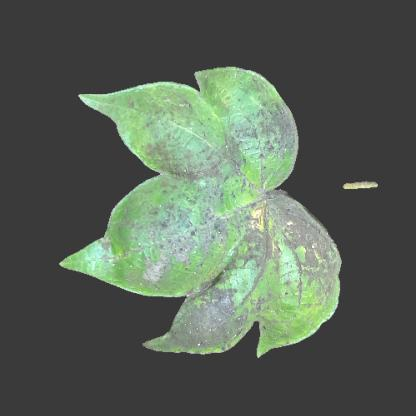sooty: (133, 175, 231, 275), (226, 193, 288, 280), (177, 286, 255, 349), (128, 86, 203, 139), (149, 134, 248, 174), (281, 198, 329, 270), (291, 257, 339, 319), (242, 102, 294, 155), (229, 68, 269, 103)
